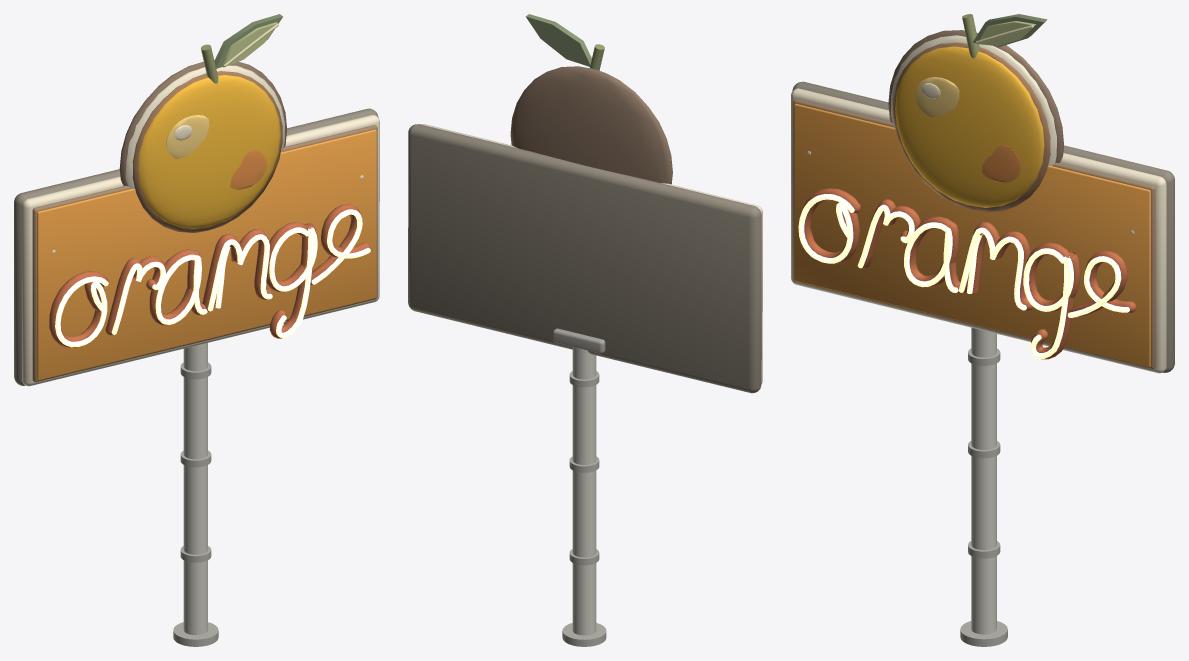
The model's file is orange-sign.glb.
3 renders of one model, left to right at view 1: azimuth 30°, elevation 25°; view 2: azimuth 150°, elevation 25°; view 3: azimuth 330°, elevation 25°, orthographic. The views are drawn at different scales.
Parts seen in each view (by area): view 1: panel_face, fruit, pole, panel_rim, panel_shadow, panel_liner, fruit_shadow, fruit_rim, g_core, g_jacket, fruit_back, n_jacket (+14 smaller); view 2: panel_shadow, fruit_back, pole, leaf_edge, mount, panel_rim, foot; view 3: panel_face, fruit, pole, panel_rim, panel_shadow, panel_liner, fruit_shadow, fruit_rim, g_jacket, g_core, fruit_back, o_core (+14 smaller).
Part boxes in pixels (left/top/right/bottom): panel_face: left=37, top=129, right=376, bottom=380; fruit: left=138, top=75, right=280, bottom=228; pole: left=183, top=343, right=207, bottom=635; panel_rim: left=22, top=115, right=379, bottom=386; panel_shadow: left=14, top=108, right=378, bottom=385; panel_liner: left=32, top=125, right=377, bottom=382; fruit_shadow: left=132, top=71, right=282, bottom=232; fruit_rim: left=125, top=65, right=284, bottom=188; g_core: left=269, top=227, right=317, bottom=338; g_jacket: left=266, top=222, right=316, bottom=338; fruit_back: left=119, top=60, right=286, bottom=186; n_jacket: left=202, top=229, right=272, bottom=311; panel_shadow: left=408, top=124, right=761, bottom=393; fruit_back: left=510, top=66, right=672, bottom=184; pole: left=572, top=347, right=596, bottom=635; leaf_edge: left=525, top=14, right=591, bottom=66; mount: left=553, top=328, right=605, bottom=353; panel_rim: left=420, top=124, right=762, bottom=383; foot: left=562, top=623, right=606, bottom=646; panel_face: left=794, top=103, right=1150, bottom=367; fruit: left=895, top=46, right=1044, bottom=207; pole: left=971, top=327, right=996, bottom=634; panel_rim: left=791, top=88, right=1166, bottom=373; panel_shadow: left=792, top=81, right=1174, bottom=372; panel_liner: left=793, top=99, right=1155, bottom=368; fruit_shadow: left=893, top=42, right=1050, bottom=212; fruit_rim: left=891, top=35, right=1056, bottom=165; g_jacket: left=1026, top=242, right=1080, bottom=359; g_core: left=1023, top=248, right=1073, bottom=358; fruit_back: left=888, top=30, right=1063, bottom=162; o_core: left=798, top=194, right=854, bottom=263.
Bounding box in the file's own units: 5.16 × 8.37 × 0.7621.
